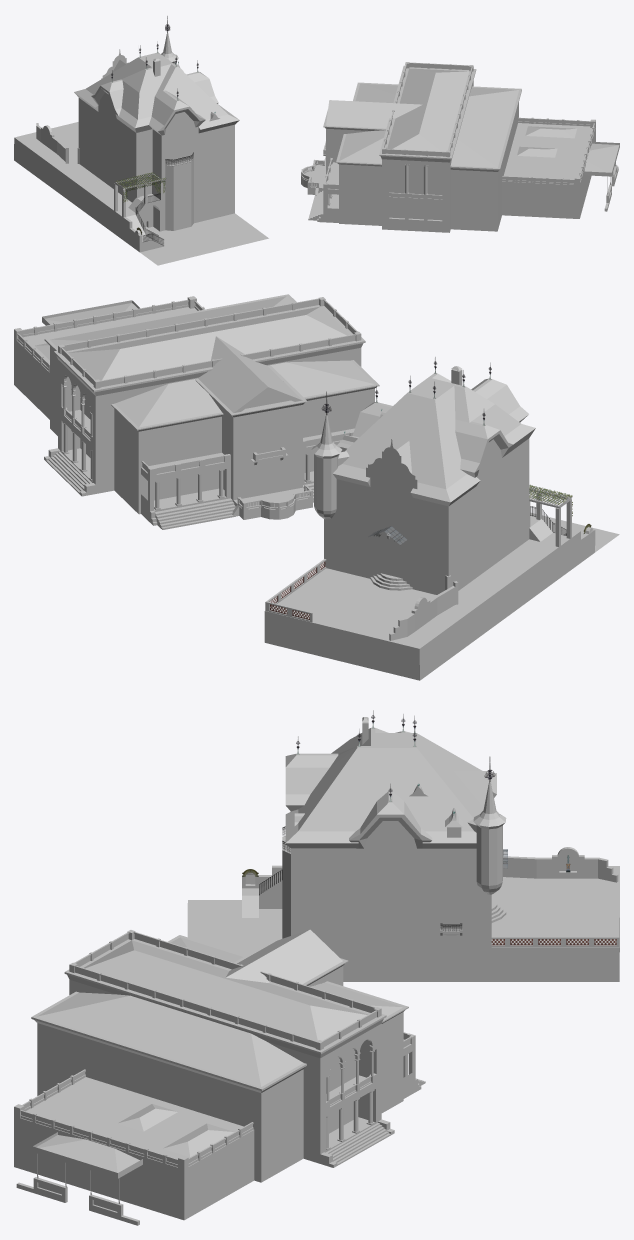
The picture shows the model from 3 angles, top to bottom: view 1: azimuth 30°, elevation 25°; view 2: azimuth 150°, elevation 25°; view 3: azimuth 270°, elevation 25°; orthographic projection. The views are drawn at different scales.
Visible parts, largest first — view 1: BUILDING_1, Park Villa Rieter building_3, PNG_0, Park Villa Rieter PNG_2; view 2: Park Villa Rieter building_3, BUILDING_1, PNG_0, Park Villa Rieter PNG_2; view 3: BUILDING_1, Park Villa Rieter building_3, PNG_0, Park Villa Rieter PNG_2.
Boxes of the visible parts, x1,y1,x2,y2 form: BUILDING_1: (301, 62, 619, 232); Park Villa Rieter building_3: (14, 32, 268, 265); PNG_0: (302, 63, 619, 214); Park Villa Rieter PNG_2: (111, 16, 215, 245); Park Villa Rieter building_3: (264, 366, 619, 680); BUILDING_1: (14, 294, 379, 529); PNG_0: (18, 300, 355, 508); Park Villa Rieter PNG_2: (270, 357, 591, 619); BUILDING_1: (14, 929, 425, 1225); Park Villa Rieter building_3: (187, 717, 619, 981); PNG_0: (21, 934, 412, 1211); Park Villa Rieter PNG_2: (242, 710, 616, 945).
Bounding box in the file's own units: 48.21 × 15.64 × 37.82.
